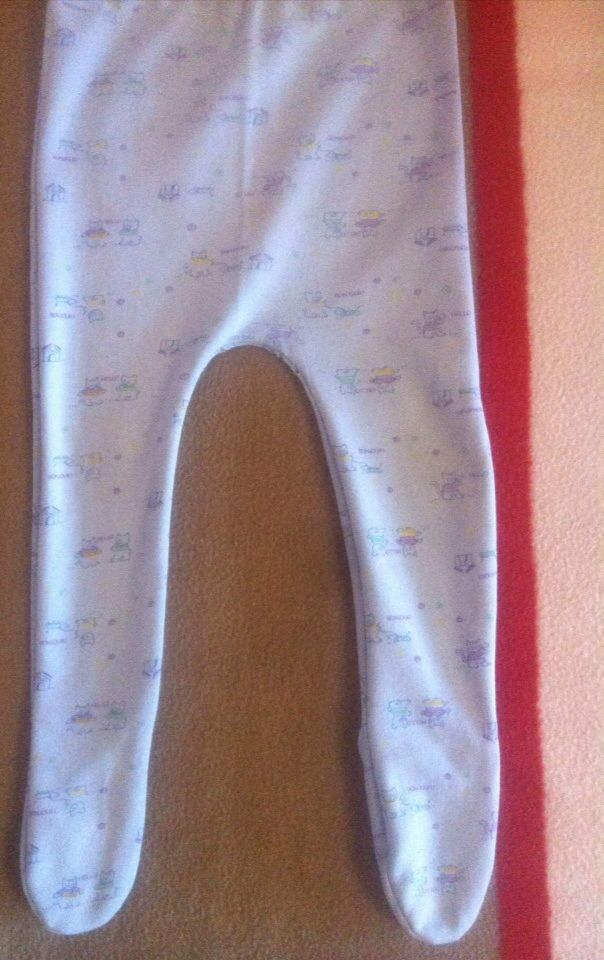clothes: (20, 1, 505, 930)
